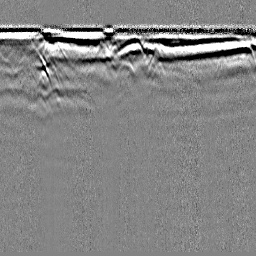cavity: (120, 56, 136, 81)
